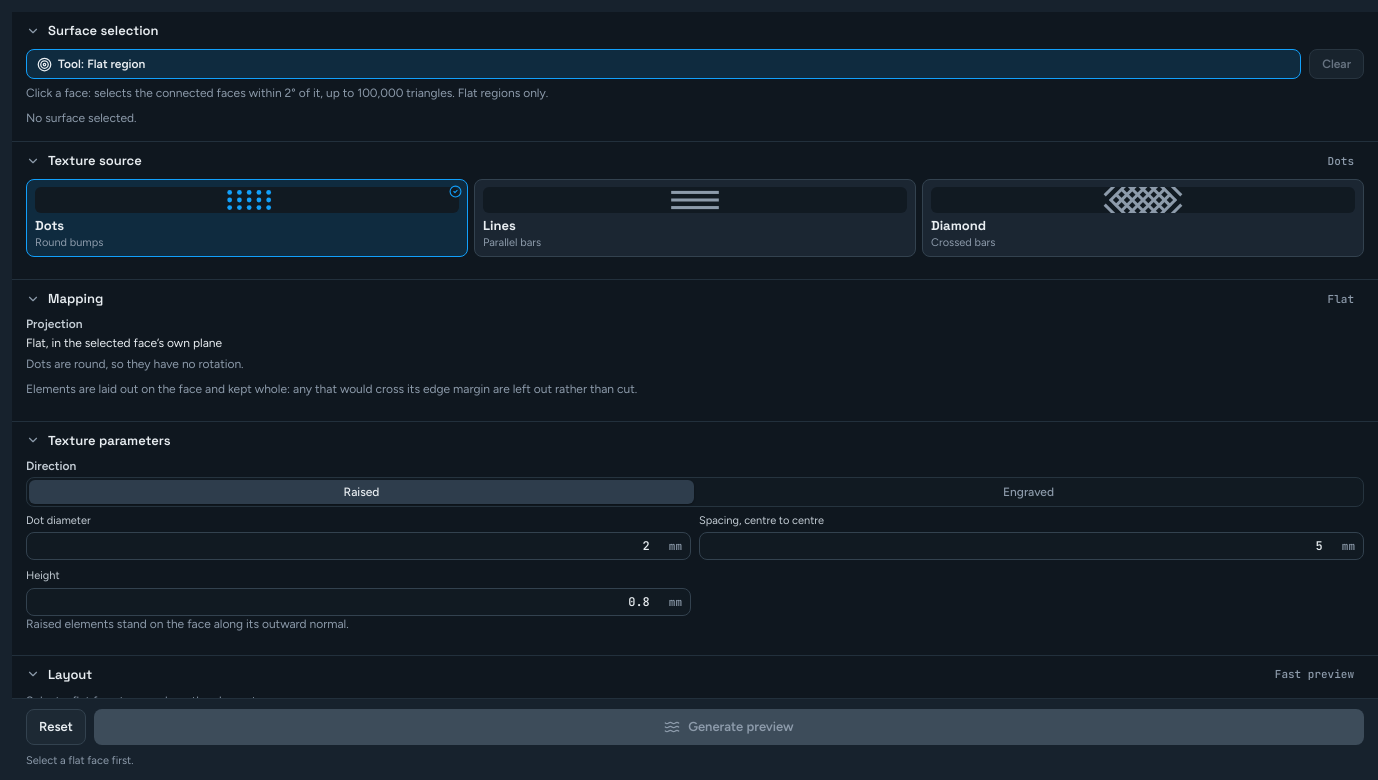
Scenario: texture source, mapping and parameters › states one flat projection and offers rotation only for patterns that use it
Expected: the text with test id "texture-projection" shows "Flat", x1=26 y1=336 x2=222 y2=350
Click the radio button with test id "texture-pattern-lines" at (695, 200), box x1=474 y1=179 x2=916 y2=257
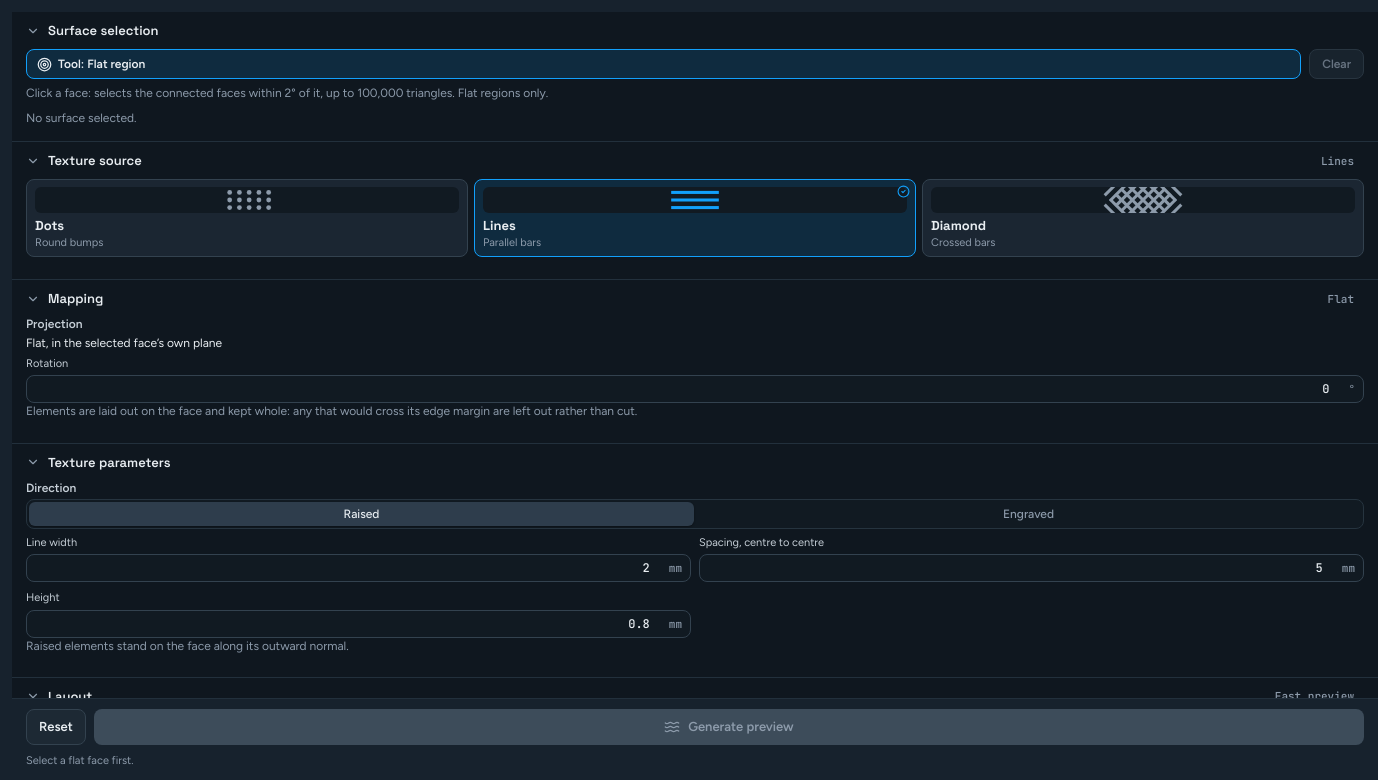
Now the number field with test id "texture-rotation" is shown, box x1=35 y1=376 x2=1344 y2=402
